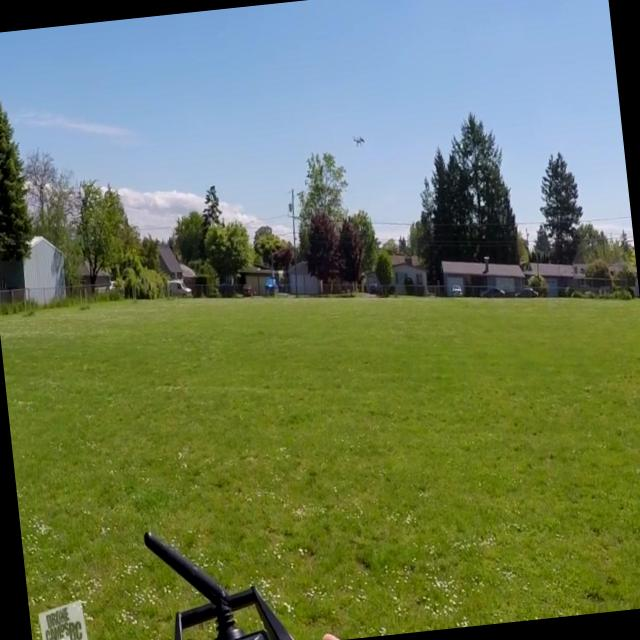drone: (351, 132, 365, 150)
